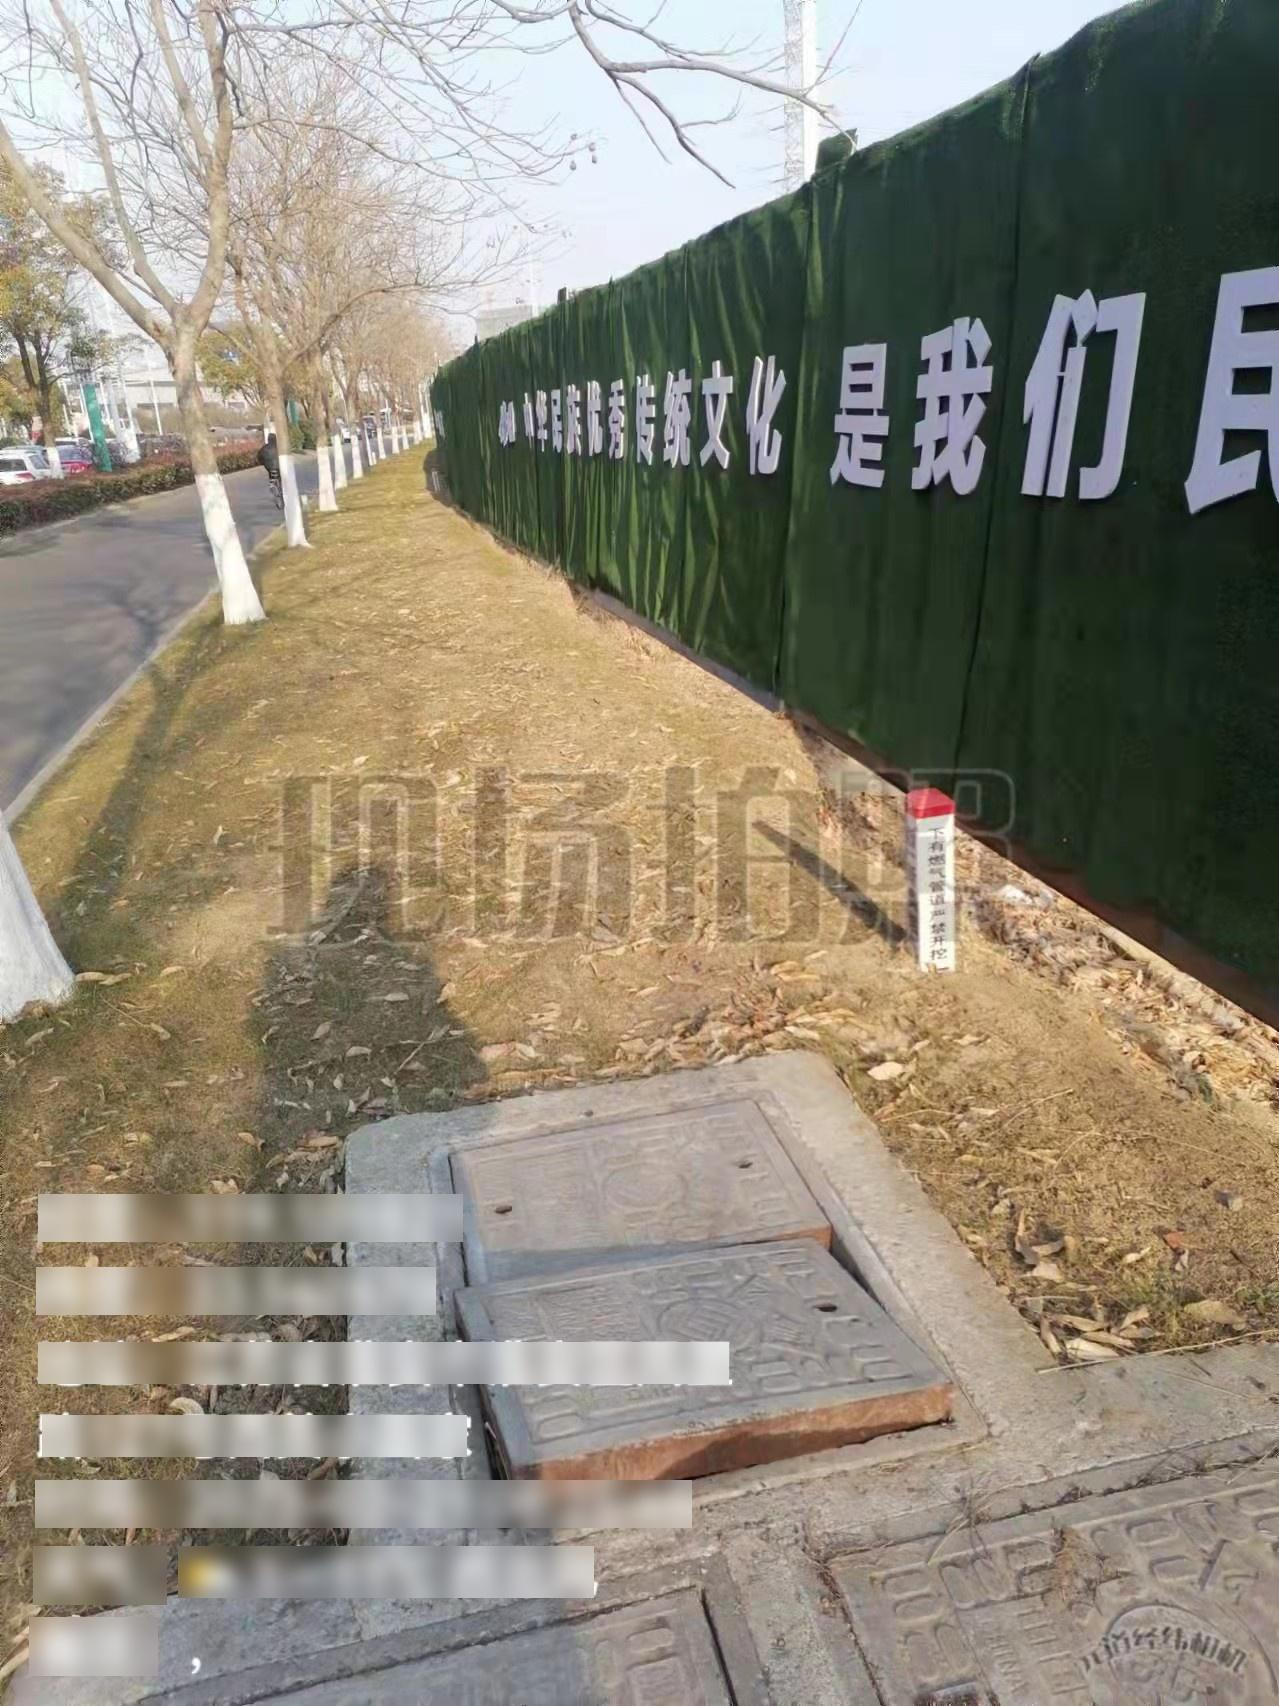wellcover: (388, 1088, 979, 1514)
